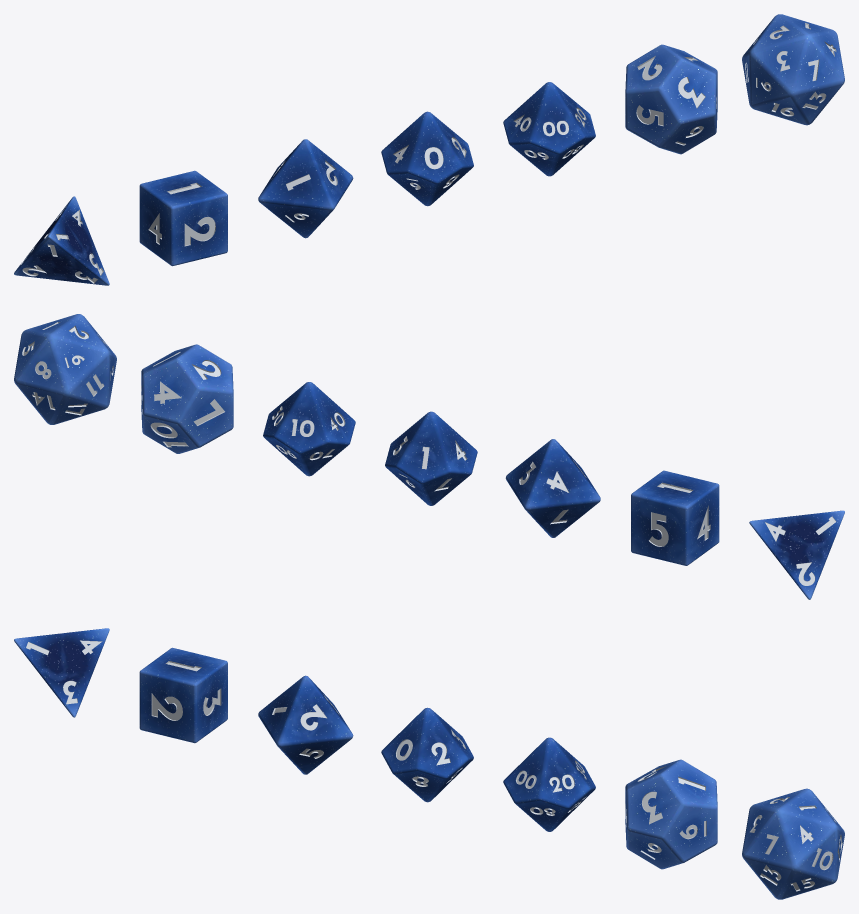
Rendered from cobalt.glb.
3 renders of one model, top to bottom at view 1: azimuth 30°, elevation 25°; view 2: azimuth 150°, elevation 25°; view 3: azimuth 330°, elevation 25°, orthographic.
Parts seen in each view (by area): view 1: d20, d12, d6, d100, d10, d8, d4; view 2: d20, d12, d6, d100, d10, d8, d4; view 3: d20, d12, d6, d8, d100, d10, d4.
Boxes of the visible parts, x1,y1,x2,y2 form: d20: (742, 14, 844, 125); d12: (625, 44, 717, 154); d6: (139, 170, 227, 266); d100: (503, 82, 595, 176); d10: (381, 111, 473, 206); d8: (258, 139, 353, 238); d4: (14, 196, 109, 285); d20: (14, 314, 116, 424); d12: (141, 344, 233, 453); d6: (631, 470, 719, 565); d100: (263, 382, 355, 476); d10: (385, 411, 477, 505); d8: (505, 439, 600, 537); d4: (749, 510, 844, 599); d20: (742, 788, 844, 899); d12: (625, 759, 717, 869); d6: (139, 647, 227, 743); d8: (258, 675, 353, 774); d100: (503, 737, 595, 831); d10: (381, 707, 473, 802); d4: (14, 628, 109, 717).
Bounding box in the file's own units: 21.14 × 2.47 × 2.47.
Materials: 14 (7 with a texture image).
